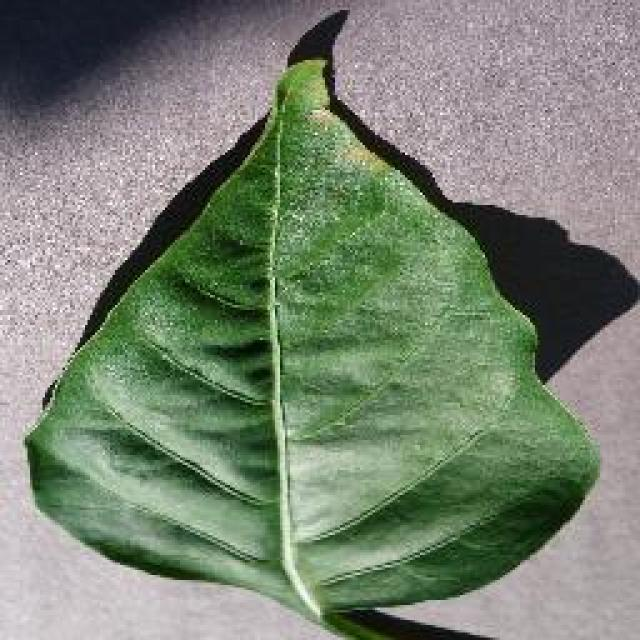Chilli_Healthy: (22, 8, 602, 638)
